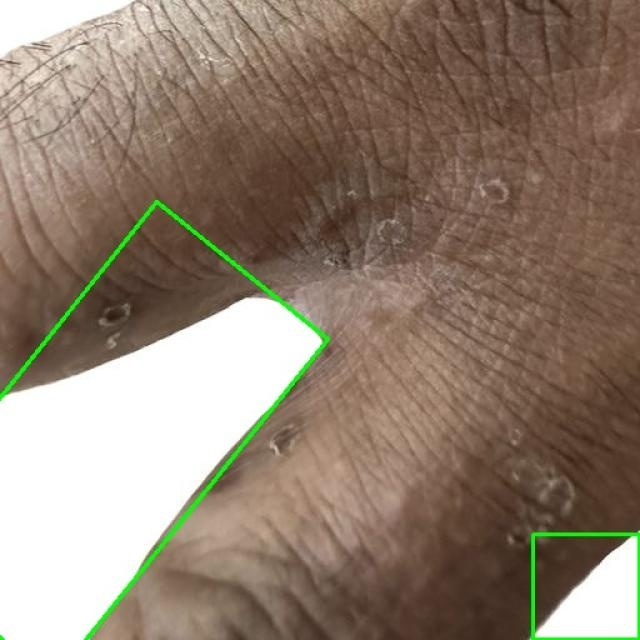Scabies: (0, 202, 350, 640), (532, 534, 639, 639)
